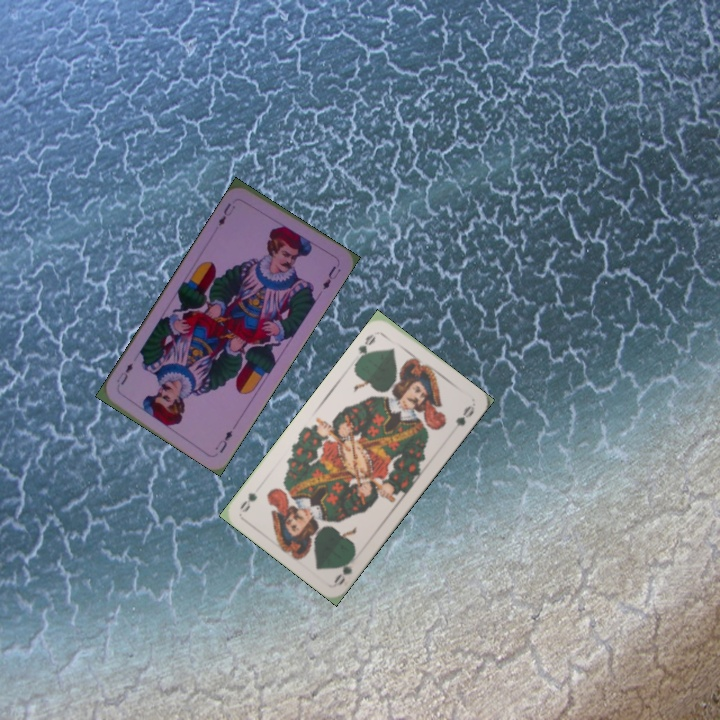EU: (214, 199, 238, 229), (211, 426, 235, 456)
GO: (330, 550, 358, 588), (353, 330, 378, 364)
